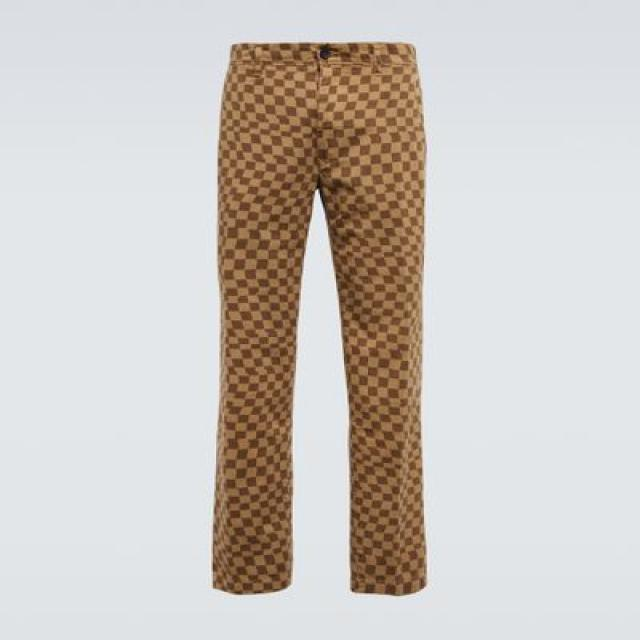pants: (204, 35, 432, 597)
